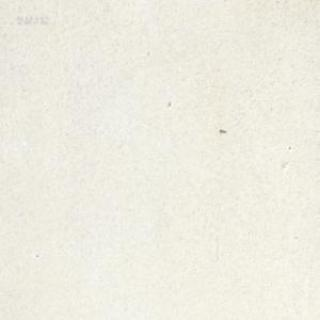Nailtrack_idkeyframe: (218, 128, 226, 133)
